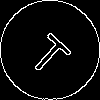T: (25, 25, 79, 79)
